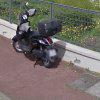Motorcycle: (6, 7, 65, 74)
